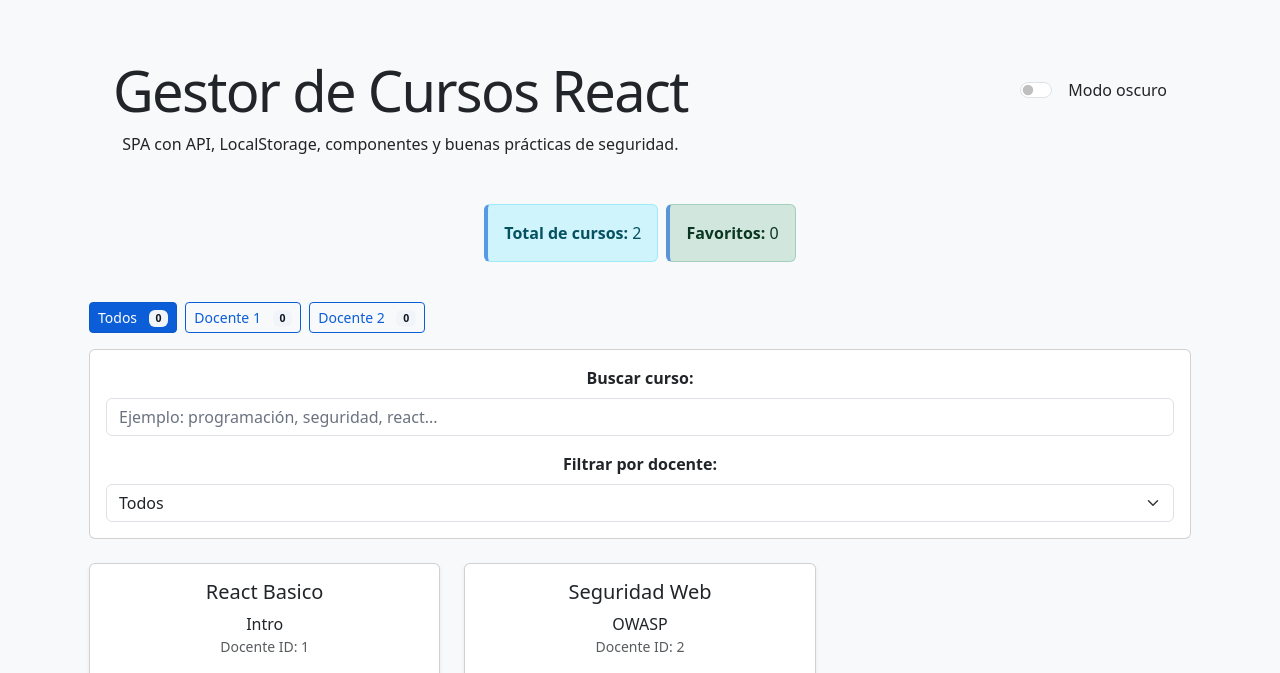
Test: App › carga cursos, filtra por docente, alterna dark mode y maneja favoritos
Check: the heading "React basico" is shown, box [206, 578, 323, 605]
Check: the heading "Seguridad web" is shown, box [568, 578, 712, 605]
Click the checkbox labelled "Modo oscuro" at point(1036, 90), box [1020, 82, 1052, 98]
(page scrolled)
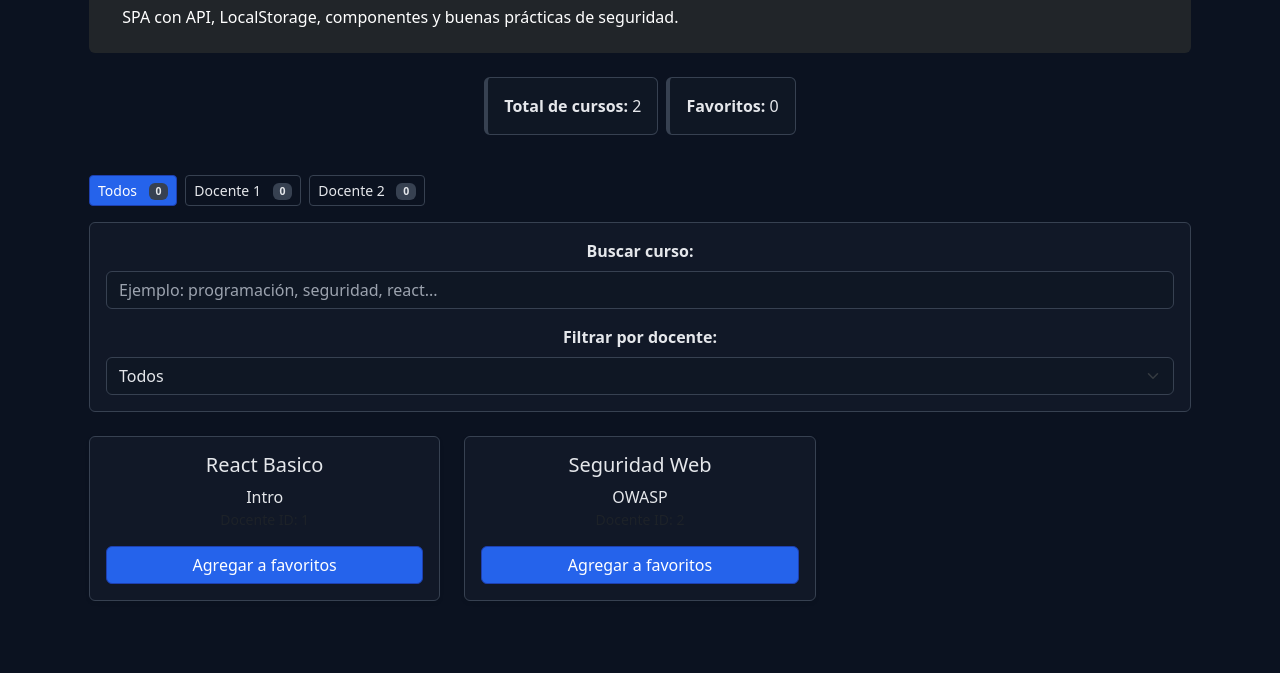
Click the button "Agregar a favoritos" below "Intro" at point(265, 565), box [106, 546, 423, 584]
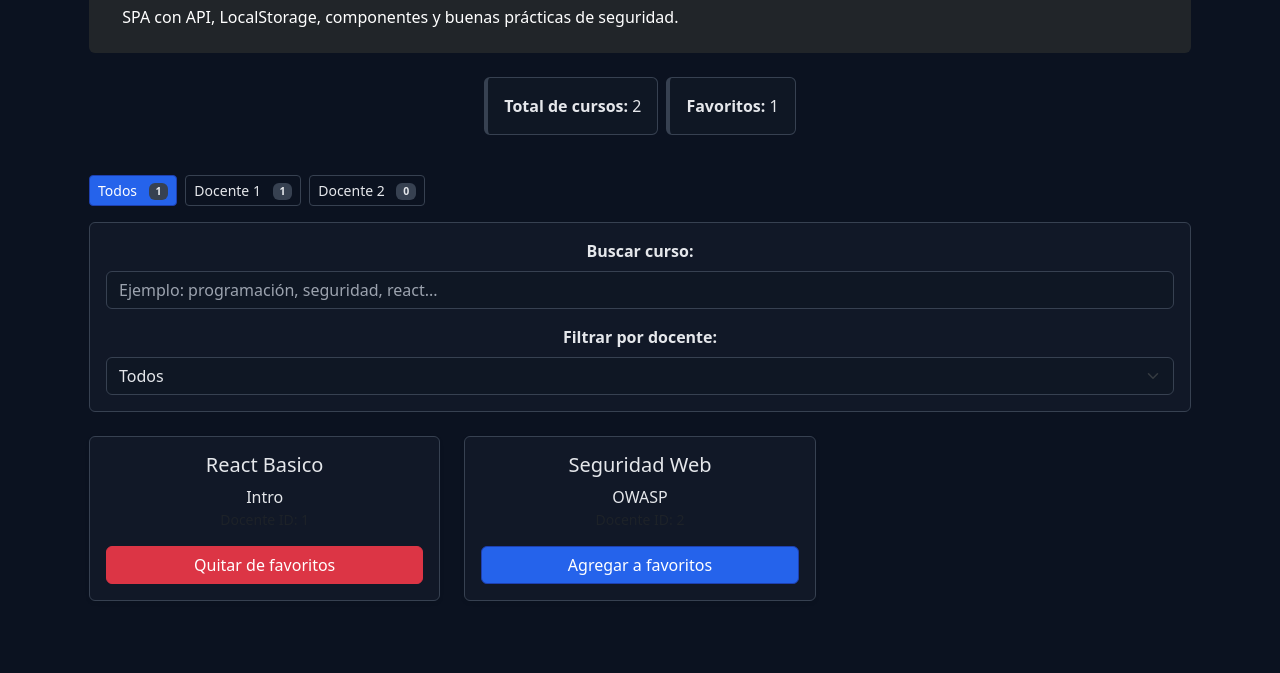
Select "Docente 2" in the dropdown labelled "Filtrar por docente:" at point(640, 376), box [106, 357, 1174, 395]
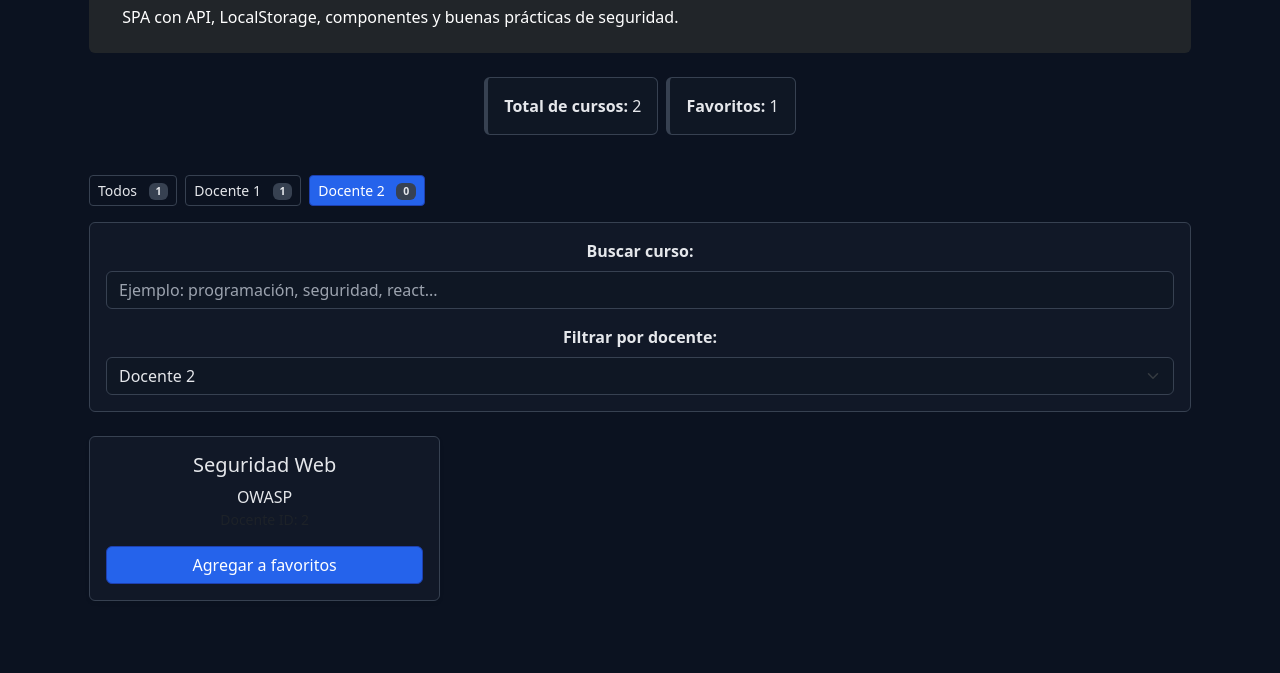
Check: the heading "Seguridad web" is shown, box [193, 451, 336, 478]
Check: the heading "React basico" is gone
